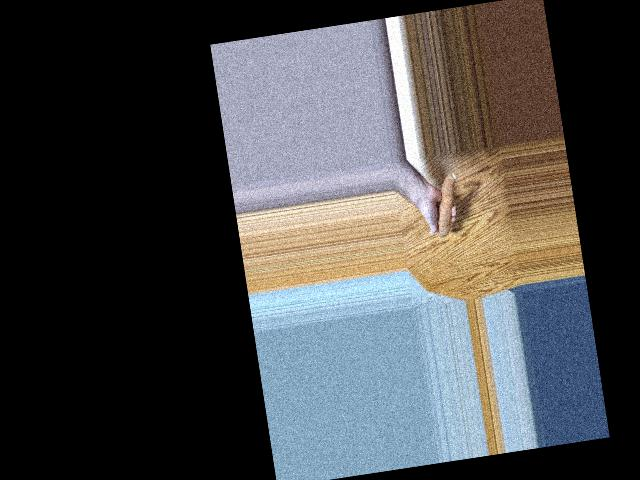sweet_potato: (429, 174, 455, 239)
